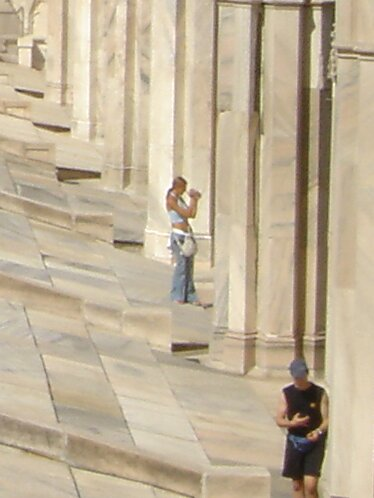person: (276, 354, 329, 498), (163, 176, 207, 309)
